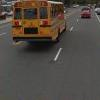Bus: (7, 1, 73, 50)
